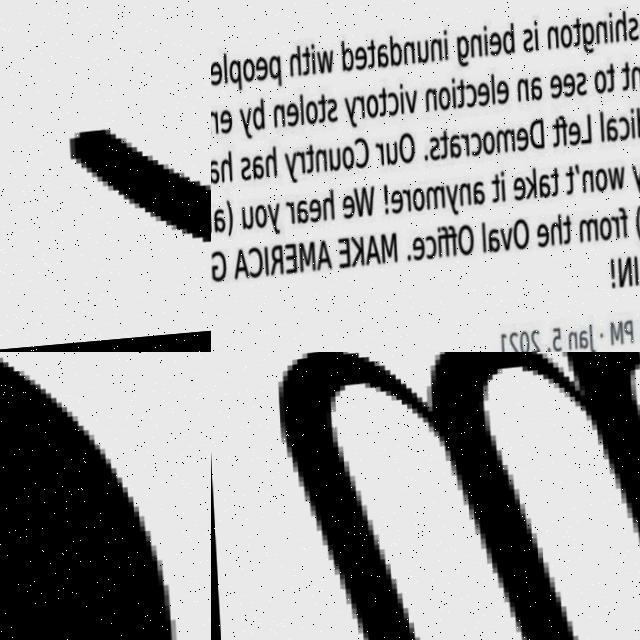0: (0, 352, 183, 640)
1: (547, 334, 556, 352), (635, 327, 640, 352)
M: (268, 352, 640, 640)
